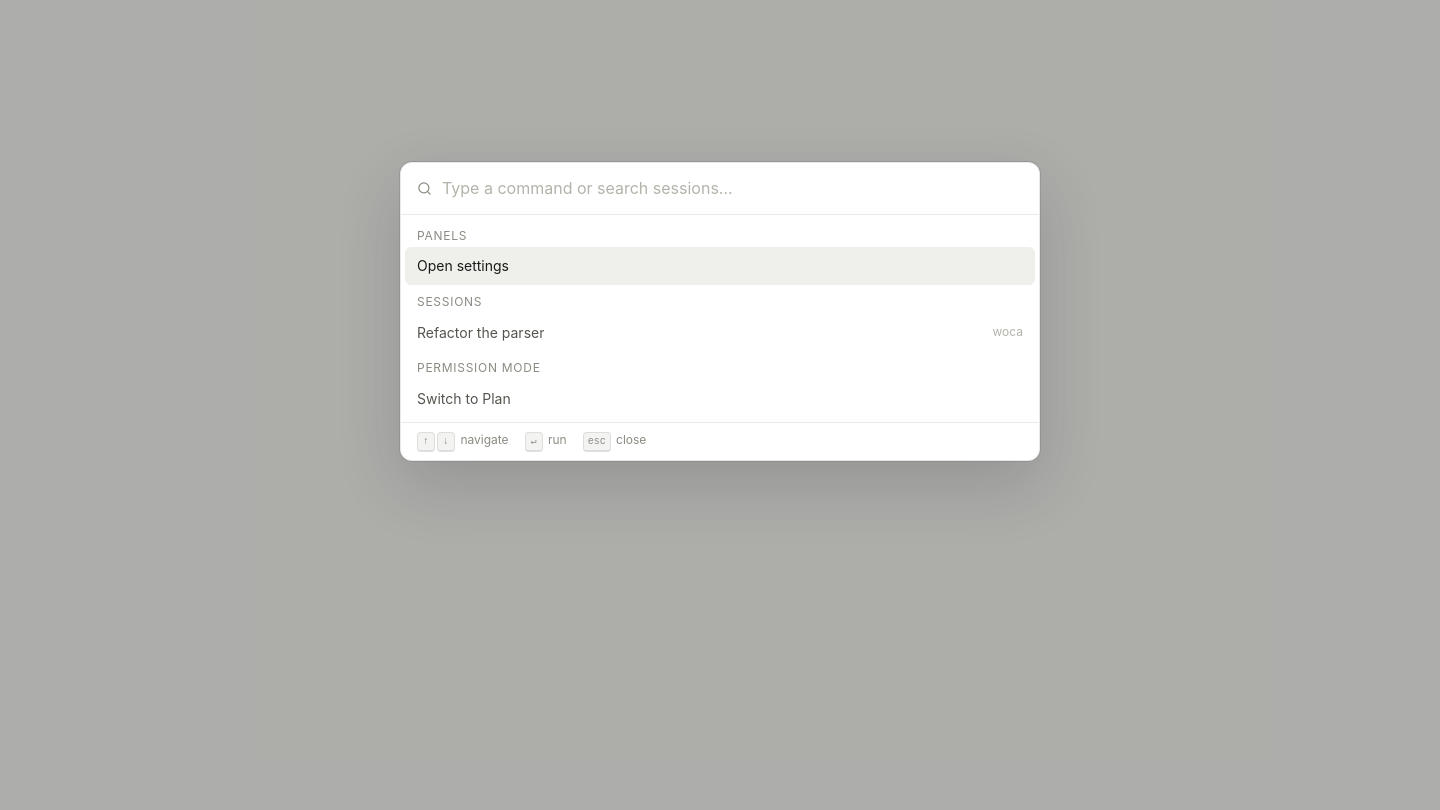
Test: WCommandPalette › shows the empty state for unmatched queries
The width and height of the screenshot is (1440, 810).
Type "zzzz" into the dropdown with placeholder "Type a command or search sessions…".
click(732, 188); type("zzzz")  # box x1=440 y1=175 x2=1023 y2=202
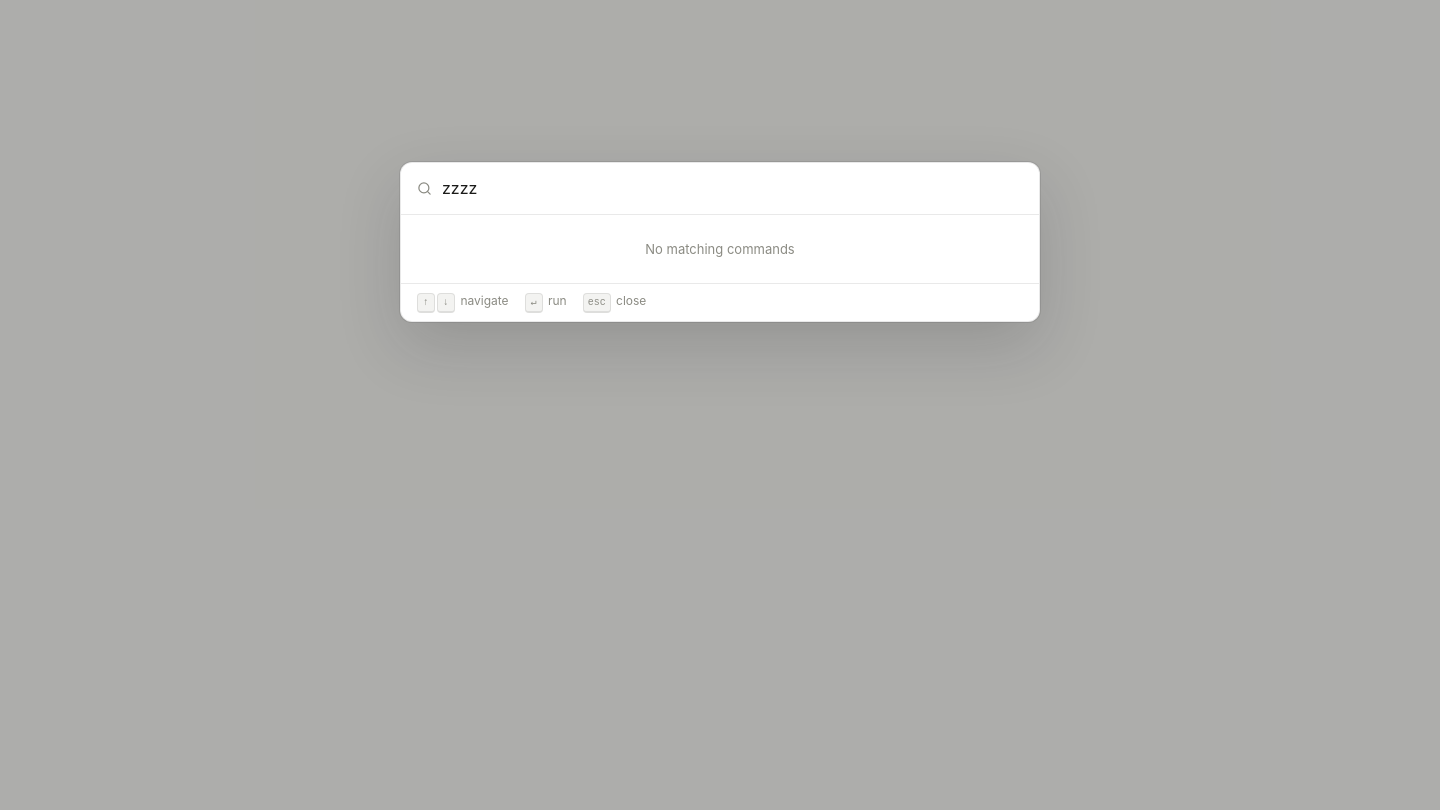
Check: the text "No matching commands" is shown, box x1=645 y1=241 x2=795 y2=257
